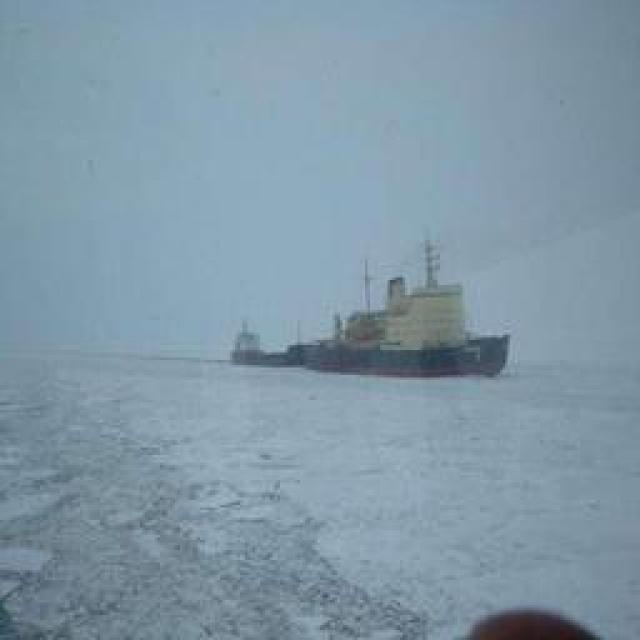Ship: (230, 269, 518, 382)
